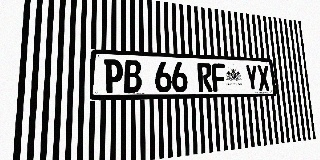6: (155, 61, 172, 92), (171, 62, 188, 92)
B: (124, 60, 142, 93)
F: (211, 63, 226, 92)
P: (104, 59, 123, 93)
R: (197, 63, 213, 92)
X: (257, 65, 270, 91)
Y: (245, 65, 259, 91)
